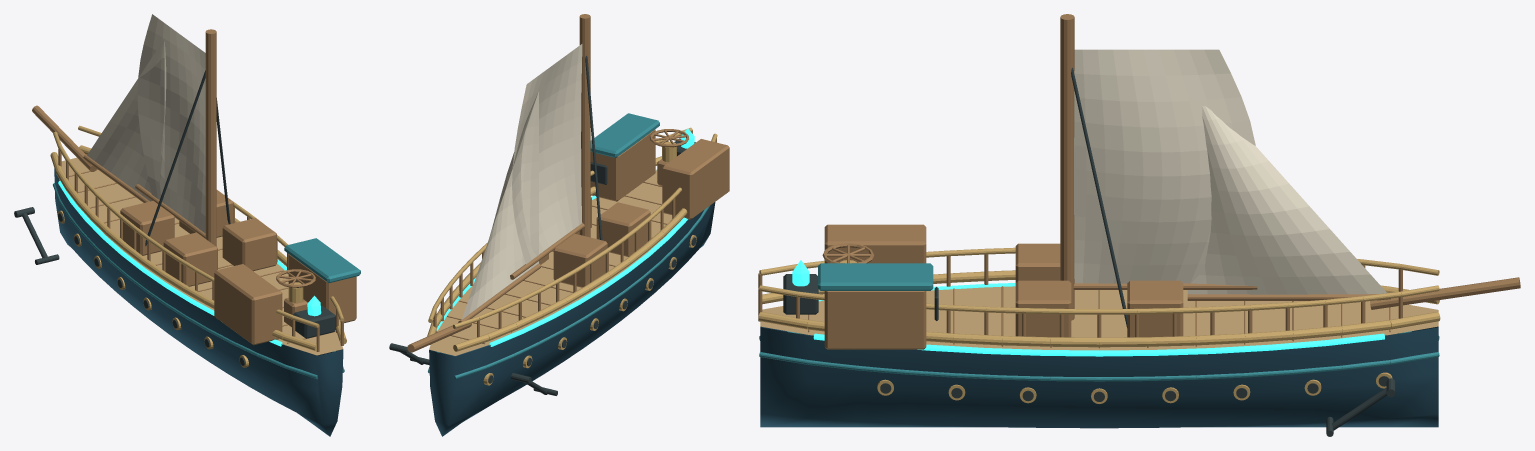
File: ship_barque.glb
3 renders of one model, left to right at view 1: azimuth 30°, elevation 25°; view 2: azimuth 150°, elevation 25°; view 3: azimuth 270°, elevation 25°, orthographic. The views are drawn at different scales.
Parts seen in each view (by area): view 1: ship_barque; view 2: ship_barque; view 3: ship_barque.
Boxes of the visible parts, box(x1,y1,x2,y2) form: ship_barque: box(14, 14, 360, 436); ship_barque: box(389, 14, 729, 436); ship_barque: box(758, 14, 1520, 436).
Size of the model in its own units: 2.73 by 5.68 by 9.56.
